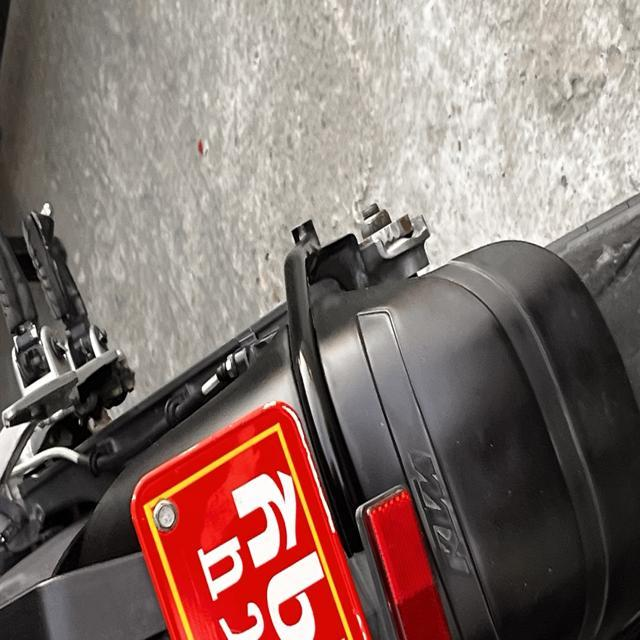license_plate: (107, 411, 355, 640)
